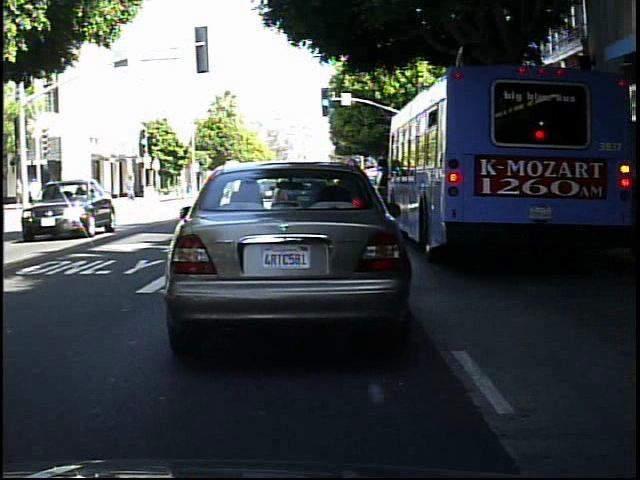person: (72, 174, 90, 213), (58, 174, 75, 214), (14, 175, 30, 217), (123, 171, 141, 205), (48, 178, 64, 215), (13, 177, 30, 210), (29, 174, 44, 205)
